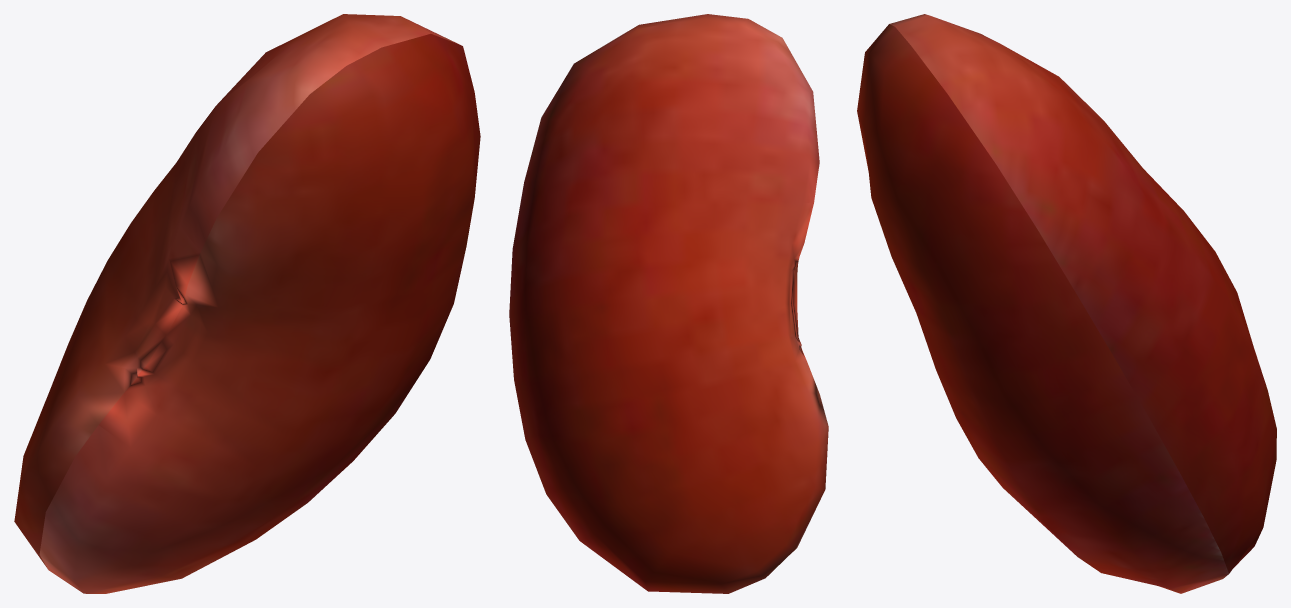
File: Bean.fbx
The picture shows the model from 3 angles, left to right: view 1: azimuth 30°, elevation 25°; view 2: azimuth 150°, elevation 25°; view 3: azimuth 270°, elevation 25°; orthographic projection. The views are drawn at different scales.
Parts seen in each view (by area): view 1: Seed; view 2: Seed; view 3: Seed.
Boxes of the visible parts, left/top/right/bottom form: Seed: left=14, top=14, right=480, bottom=593; Seed: left=509, top=14, right=828, bottom=593; Seed: left=857, top=14, right=1276, bottom=593.
Size of the model in its own units: 1.76 by 2.61 by 1.68.
